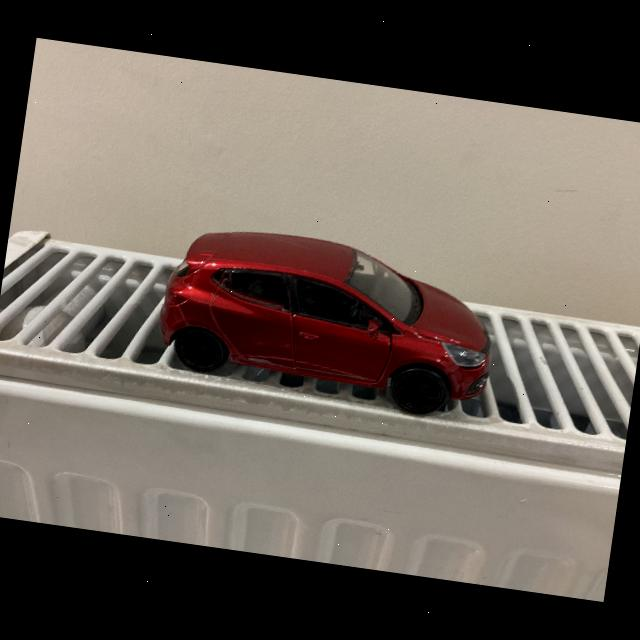Dogru_Jant: (392, 370, 442, 412), (177, 330, 226, 372)
